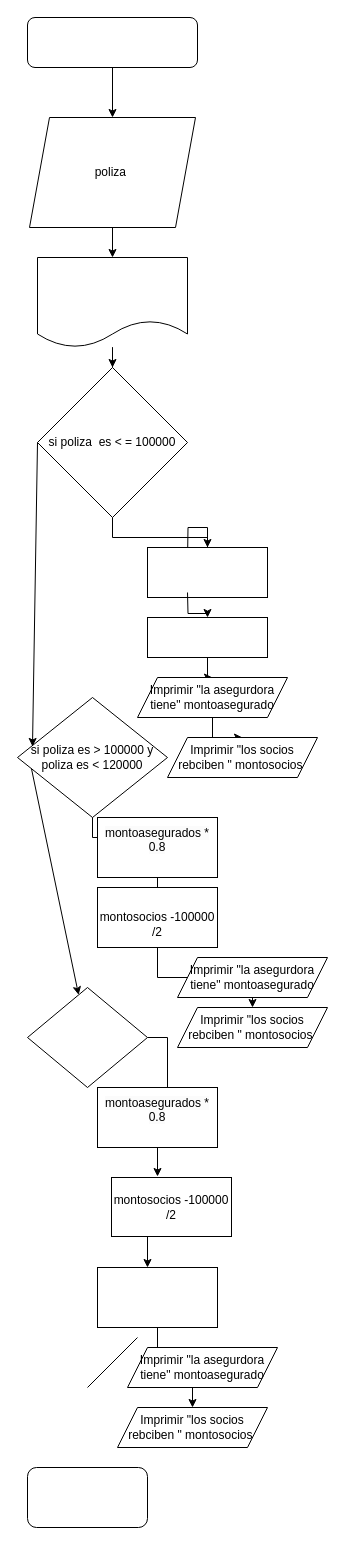
The diagram is 345 pixels wide and 1545 high, and some of its shapes have lost their labels. Each missing label, with the centre of its shape:
"finalgoritmo" belongs at [87,1497].
"Ingrese la suma de la poliza" belongs at [112,302].
"INICIO" belongs at [112,42].
"montoasegurado * 0.8" belongs at [207,572].
"montoasocios * 0.20" belongs at [207,637].
"si poliza es > 120000" belongs at [87,1037].
"socioespecial = poliza - 120000" belongs at [157,1297].
